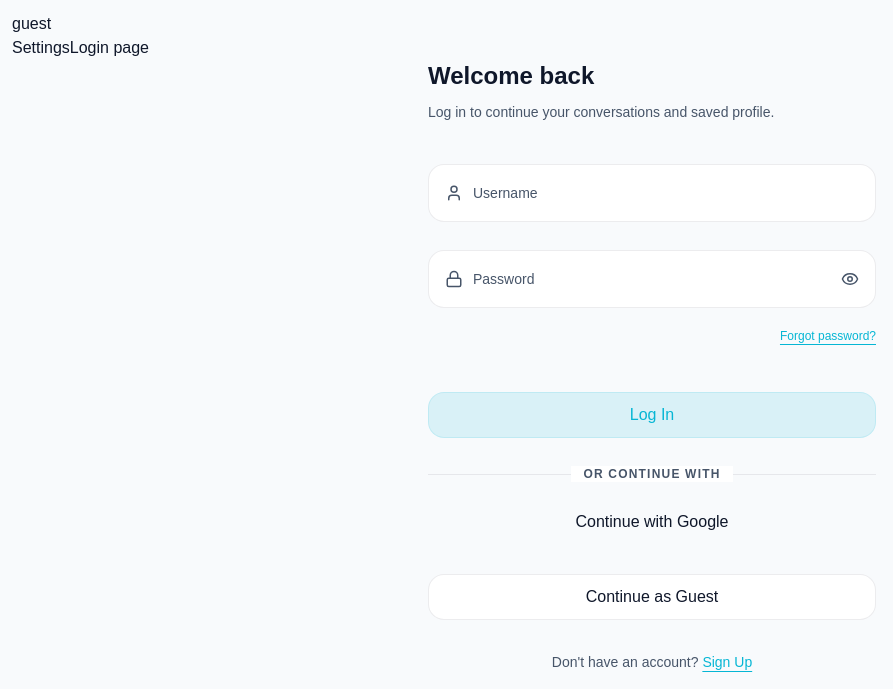
Test: Google login and explicit password-to-connection flow › retains ordinary Google login with no confirmation or signup payload
The image size is (893, 689).
What coordinates should you click on to do the following:
click the button "Continue with Google"
I would click on:
 (652, 522)
Its box is 576,510 -> 728,534.
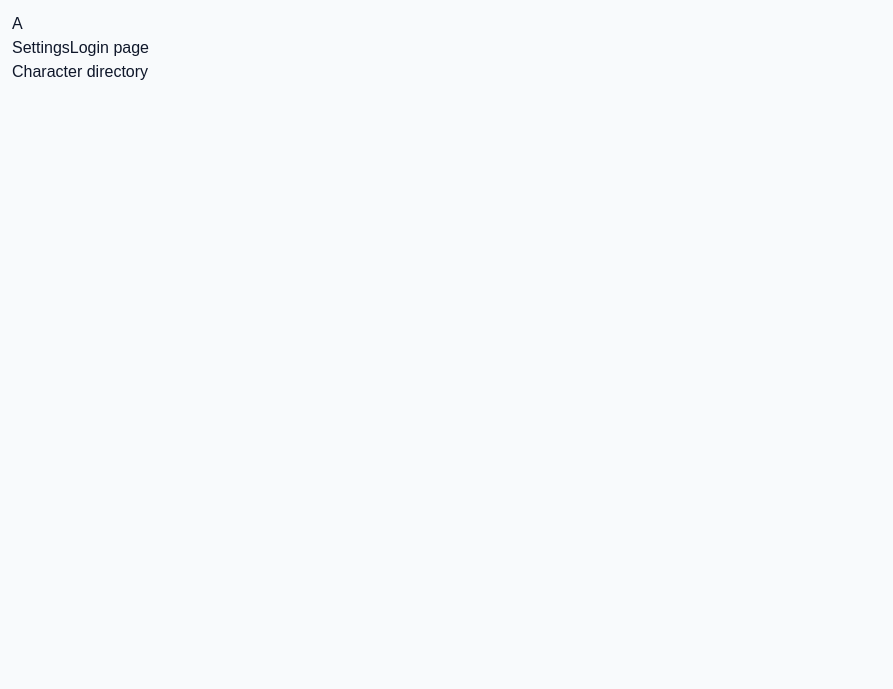
expect the text "Character directory" is shown: met, box 12,63 -> 148,80
expect the text with test id "account" reads "A": met, box 12,15 -> 23,32
